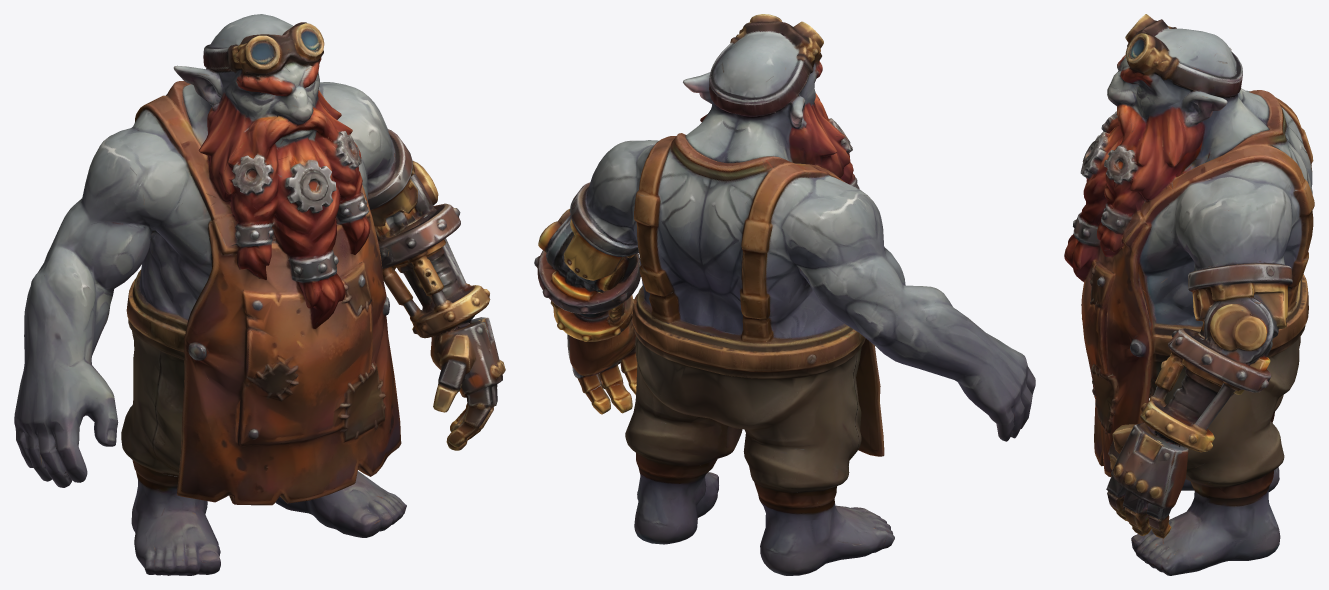
File: Dorin.glb
The picture shows the model from 3 angles, left to right: view 1: azimuth 30°, elevation 25°; view 2: azimuth 150°, elevation 25°; view 3: azimuth 270°, elevation 25°; orthographic projection. The views are drawn at different scales.
Parts seen in each view (by area): view 1: Mesh1.0; view 2: Mesh1.0; view 3: Mesh1.0.
Boxes of the visible parts, <box> form: Mesh1.0: <box>14,14,505,575</box>; Mesh1.0: <box>534,14,1035,575</box>; Mesh1.0: <box>1064,14,1314,575</box>.
Size of the model in its own units: 1.81 by 1.91 by 0.8822.
Materials: 1 (1 with a texture image).
